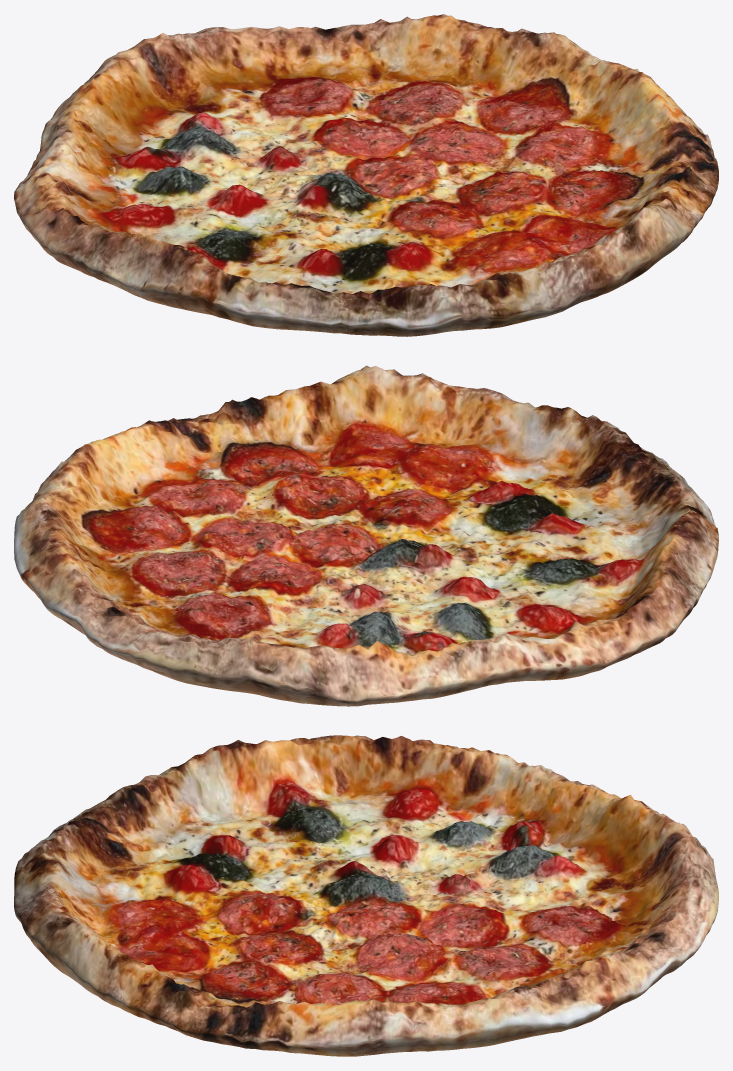
The model's file is pizza-meio-a-meio.glb.
The picture shows the model from 3 angles, top to bottom: view 1: azimuth 30°, elevation 25°; view 2: azimuth 150°, elevation 25°; view 3: azimuth 270°, elevation 25°; orthographic projection.
Visible parts, largest first — view 1: Pizza meio a meio · 32 cm; view 2: Pizza meio a meio · 32 cm; view 3: Pizza meio a meio · 32 cm.
Boxes of the visible parts, left/top/right/bottom form: Pizza meio a meio · 32 cm: left=14, top=14, right=718, bottom=336; Pizza meio a meio · 32 cm: left=14, top=365, right=718, bottom=706; Pizza meio a meio · 32 cm: left=14, top=735, right=718, bottom=1056.
Bounding box in the file's own units: 0.32 × 0.0345 × 0.32.
3 materials, 3 textured.
